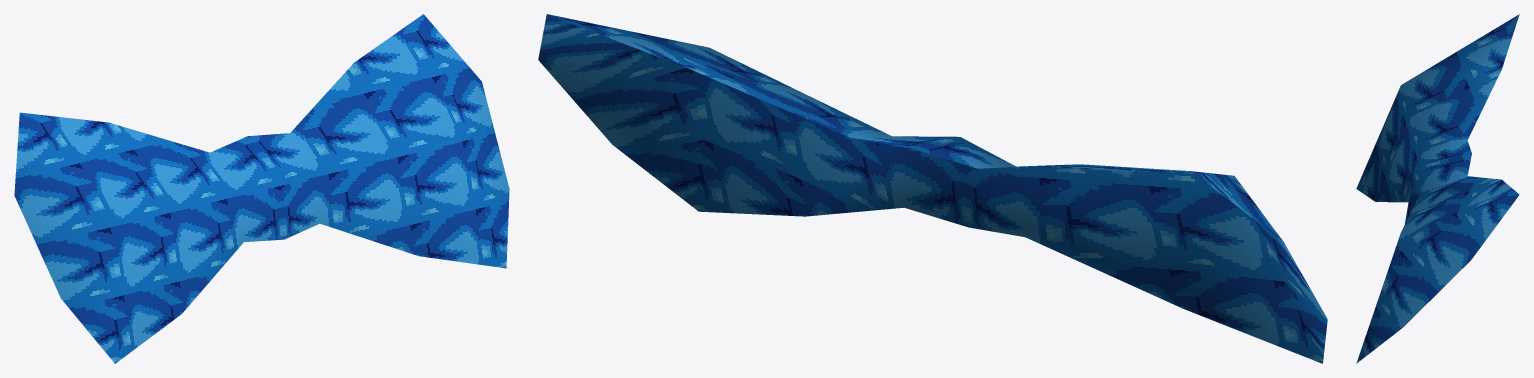
The model's file is code_head91.gltf.
3 renders of one model, left to right at view 1: azimuth 30°, elevation 25°; view 2: azimuth 150°, elevation 25°; view 3: azimuth 270°, elevation 25°, orthographic. The views are drawn at different scales.
Visible parts, largest first — view 1: code_head91; view 2: code_head91; view 3: code_head91.
Part boxes in pixels (x1,y1,x2,y2): code_head91: (14, 14, 509, 363); code_head91: (538, 14, 1327, 363); code_head91: (1356, 14, 1519, 363).
Bounding box in the file's own units: 0.7495 × 0.2876 × 0.2476.
1 material, 1 textured.
